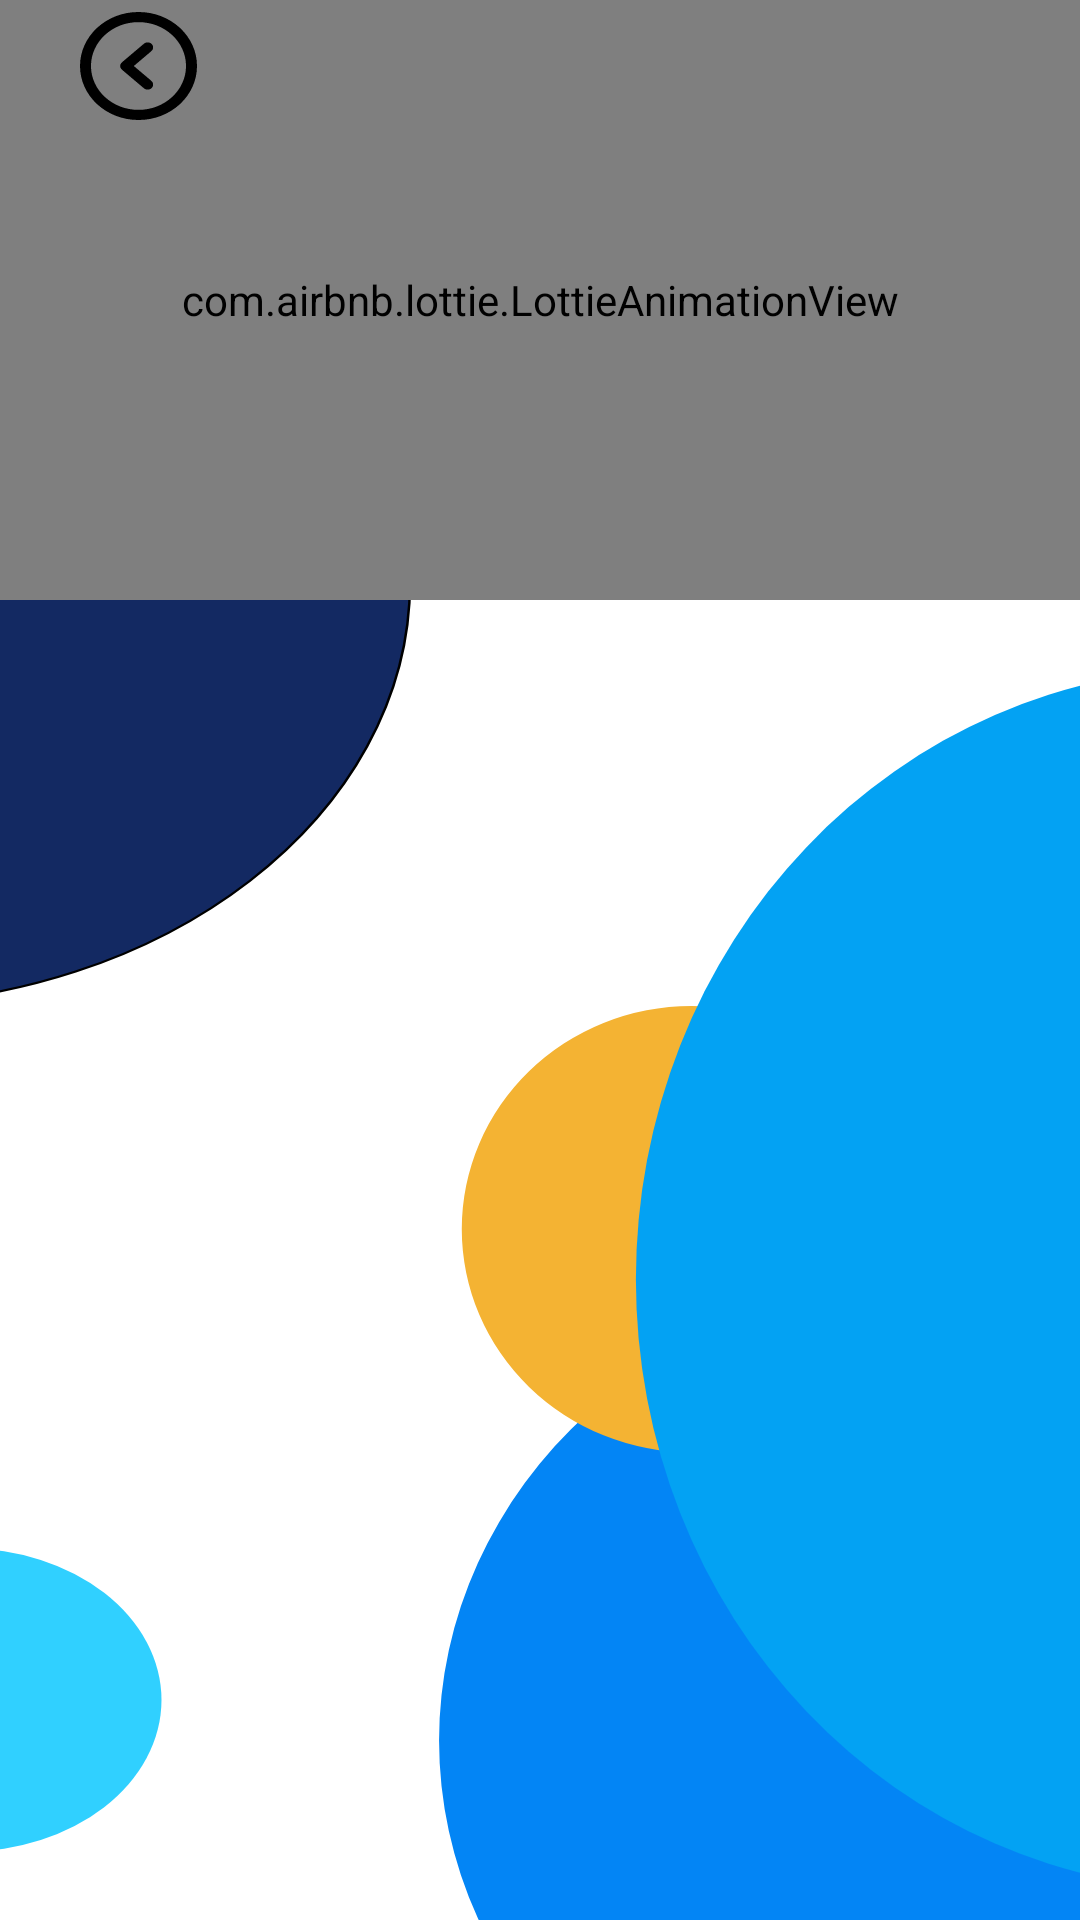

Screen size 1080w x 1920h. Icon name, then its center in pixels as point (x, y):
atras: point (138, 66)
